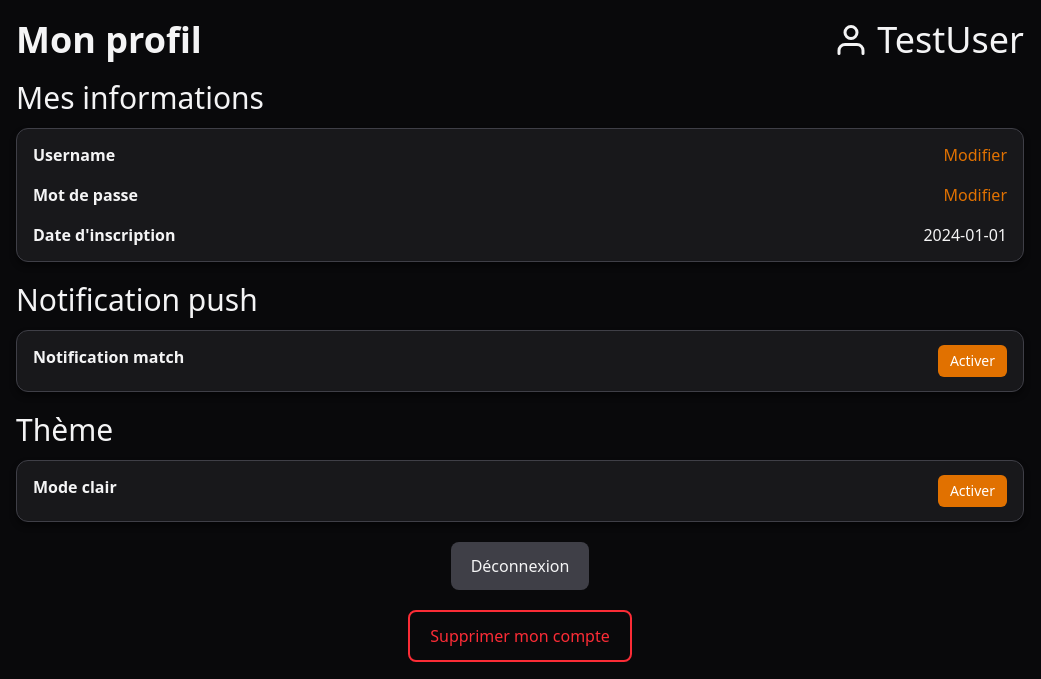
ProfilePage › does not delete the account and shows Supprimer mon compte again when cancelling
Click the button "Supprimer mon compte" at (520, 636), box [408,610,632,662]
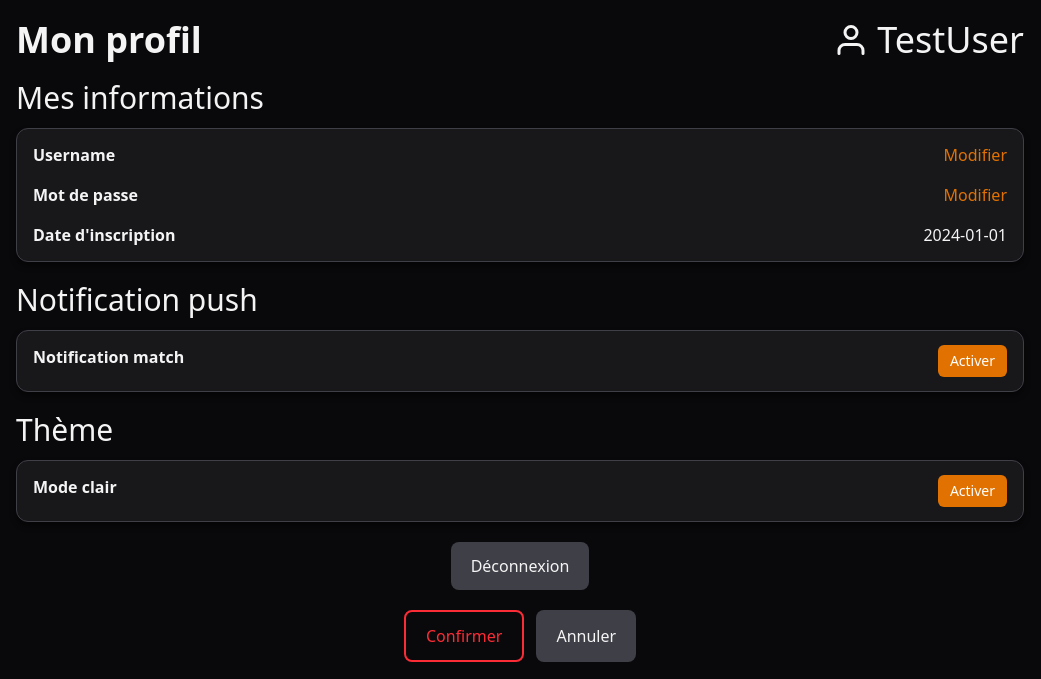
Click the button "Annuler" at (586, 636), box [536,610,636,662]
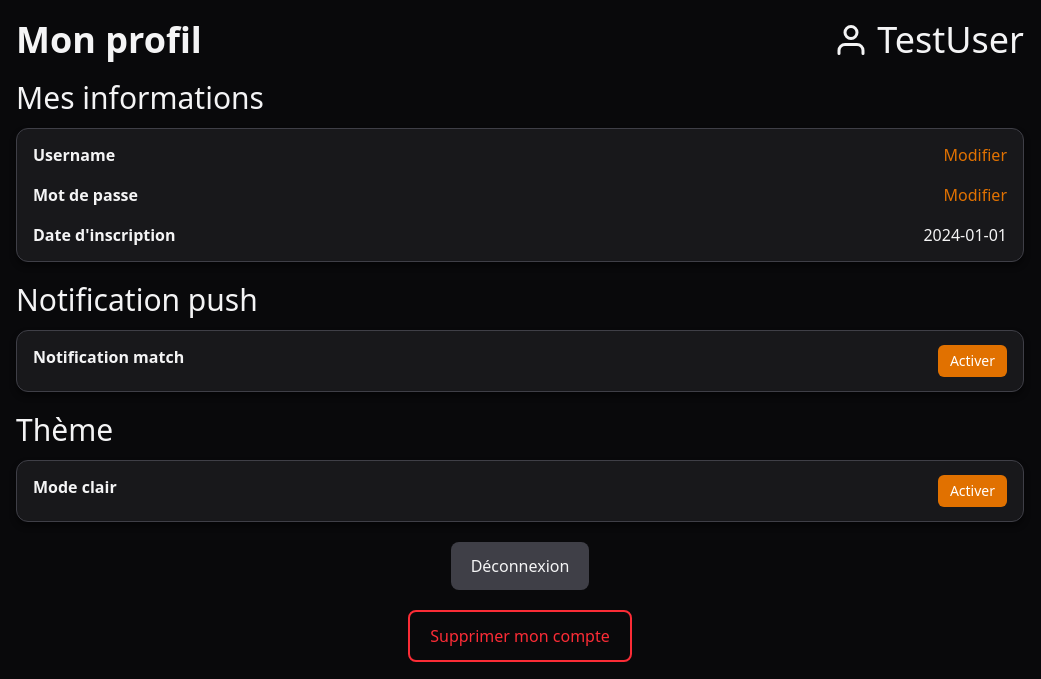
Result: the button "Supprimer mon compte" is shown at [408,610,632,662]
